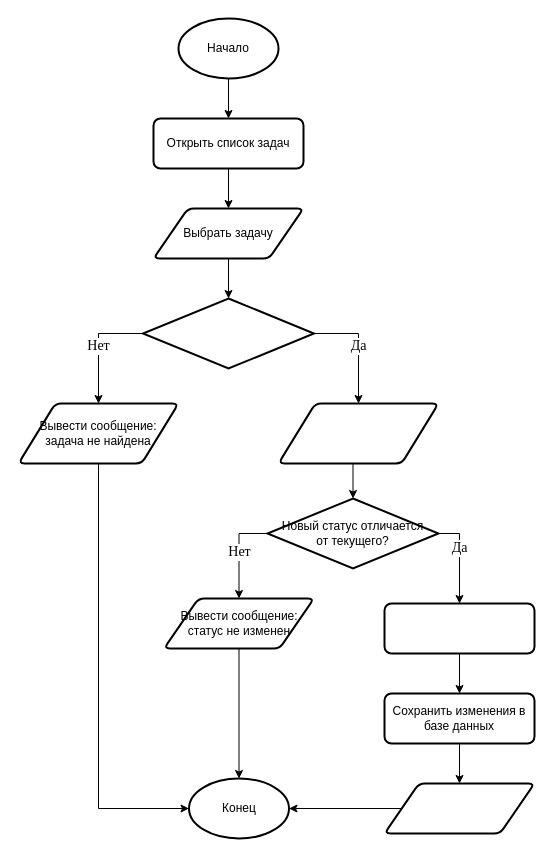
Image size: 552x856. Some labels were removed from this diagram. The shapes that lost their labels are listed below. From the top down, each one's centre as x and y in pixels, then its label:
the point at 228,333: Задача существует?
the point at 358,433: Выбрать новый статус
the point at 459,628: Обновить статус задачи
the point at 459,808: Отобразить обновленную задачу
